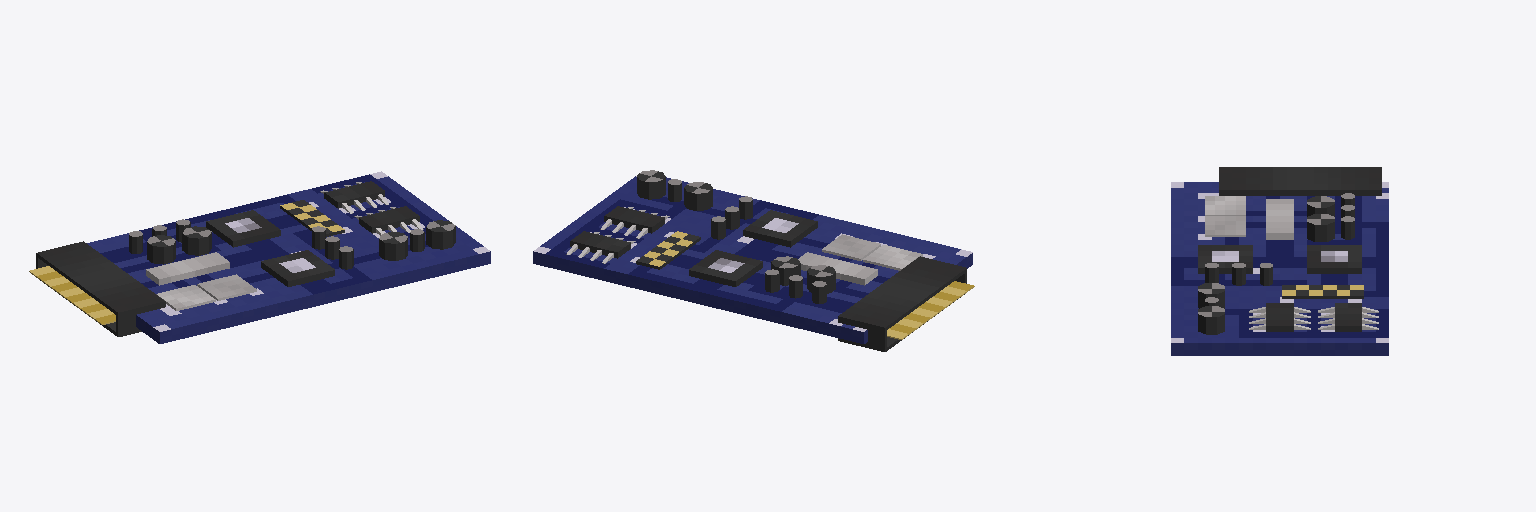
The picture shows the model from 3 angles: view 1: azimuth 30°, elevation 25°; view 2: azimuth 150°, elevation 25°; view 3: azimuth 270°, elevation 25°; orthographic projection.
Visible parts, largest first — view 1: cuboid, cylinder; view 2: cuboid, cylinder; view 3: cuboid, cylinder.
Boxes of the visible parts, <box> form: cuboid: <box>29,171,490,343</box>; cylinder: <box>129,219,455,269</box>; cuboid: <box>533,176,974,351</box>; cylinder: <box>637,170,835,303</box>; cuboid: <box>1171,167,1388,355</box>; cylinder: <box>1198,193,1354,334</box>.
Bounding box in the file's own units: 0.9531 × 0.0906 × 0.5.
2 materials, 2 textured.